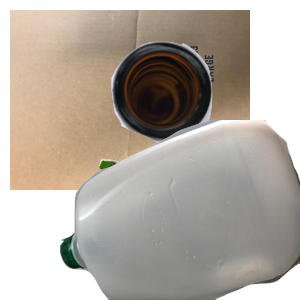cardboard: (10, 10, 250, 190)
glass: (109, 39, 300, 175)
plastic: (60, 120, 300, 300)
trash: (75, 156, 244, 300)
